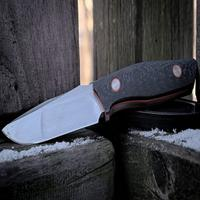knife: (1, 49, 195, 148)
